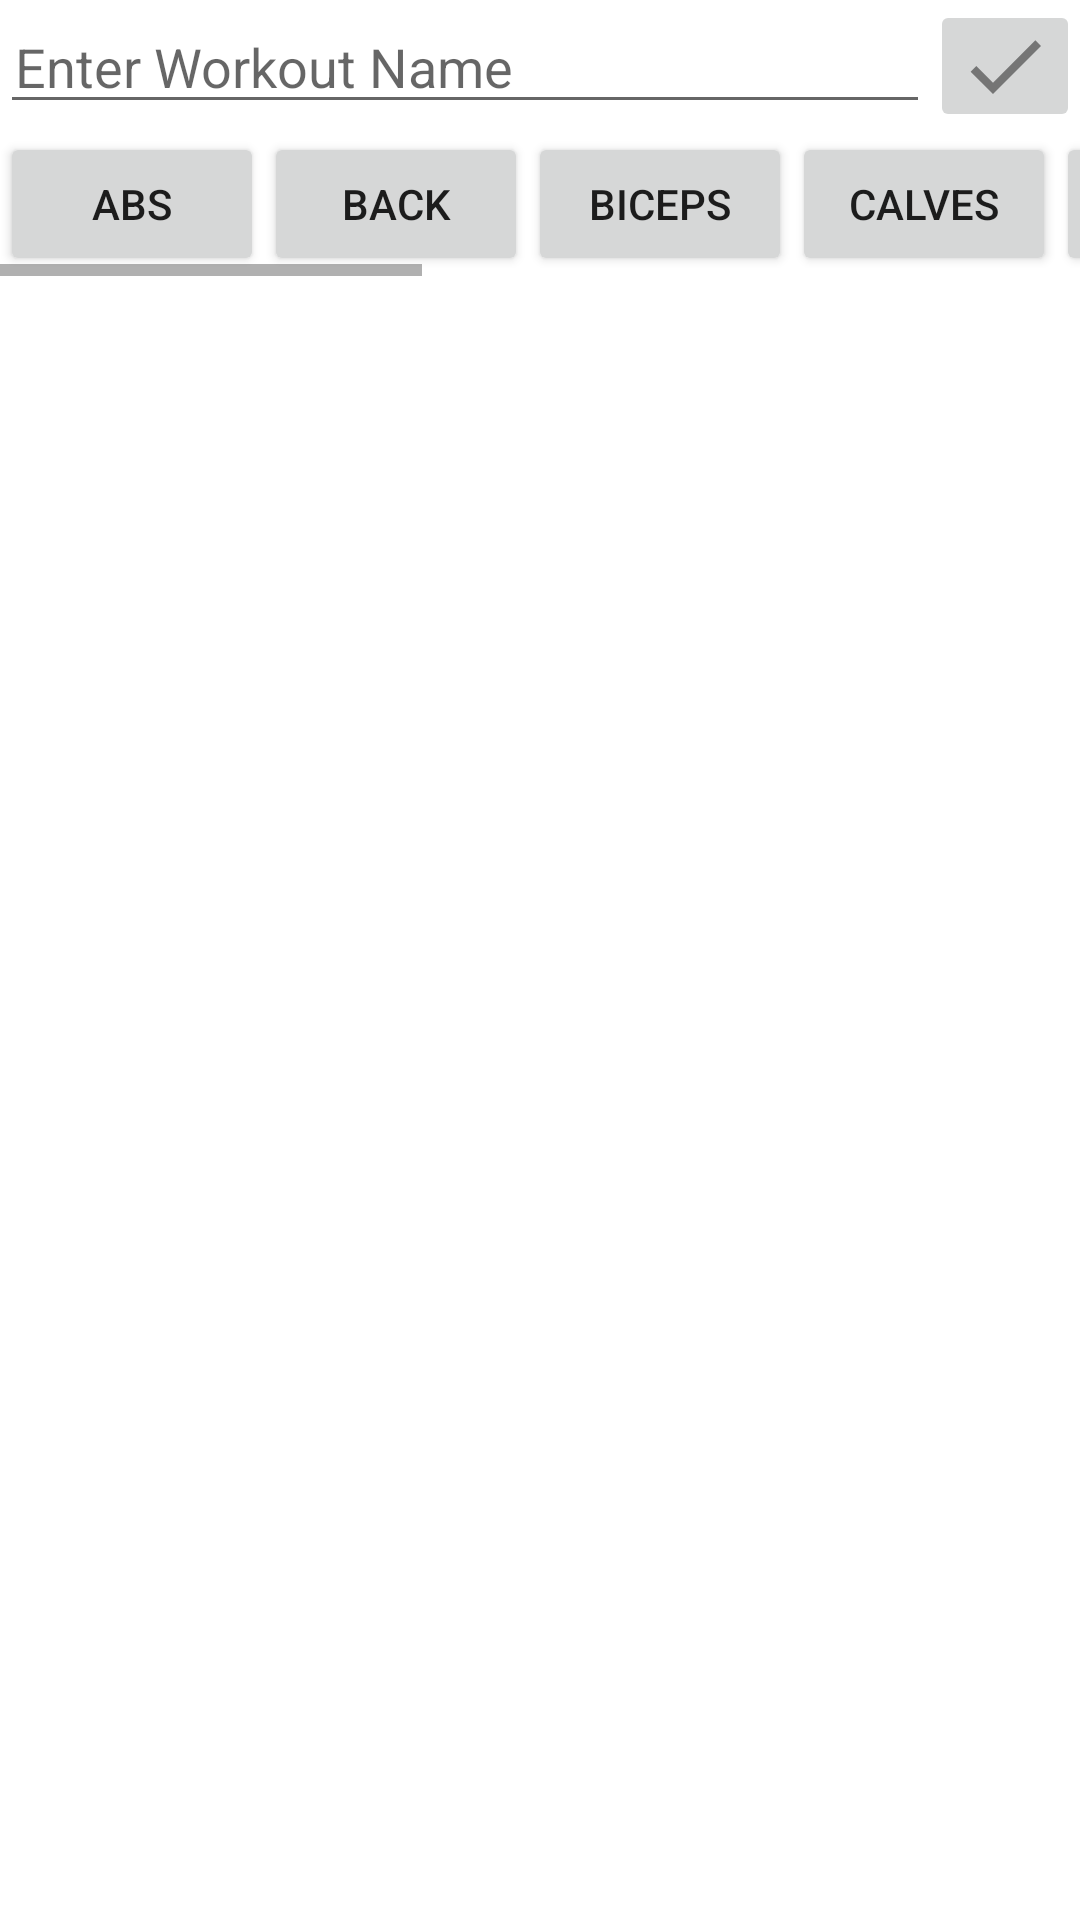

Locate icon controls on the screen. Image size 1080w x 1920h, boxes as (x1, y1, x2, y2).
check mark: (942, 18, 1068, 114)
